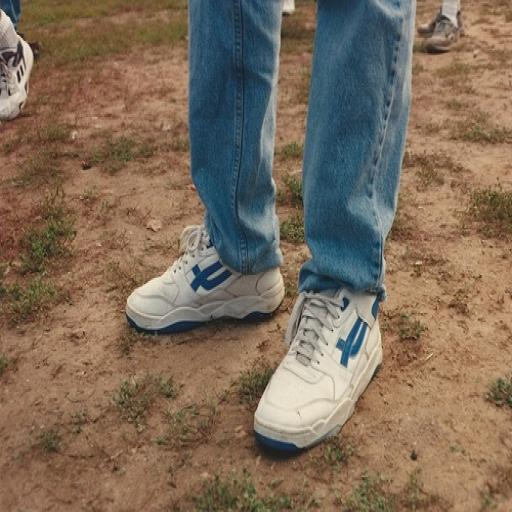shoe: (254, 289, 382, 451), (126, 225, 285, 333), (0, 36, 34, 120), (417, 11, 465, 38), (426, 15, 460, 53)
